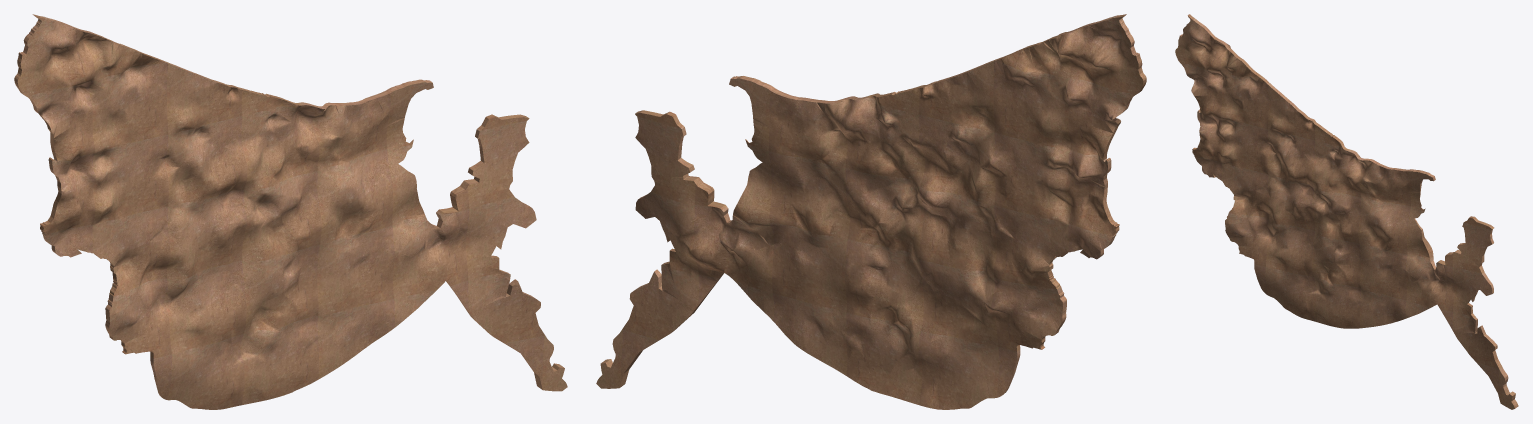
The picture shows the model from 3 angles, left to right: view 1: azimuth 30°, elevation 25°; view 2: azimuth 150°, elevation 25°; view 3: azimuth 330°, elevation 25°; orthographic projection. The views are drawn at different scales.
Bounding box in the file's own units: 24213 × 21145 × 1530.
3 materials, 3 textured.
